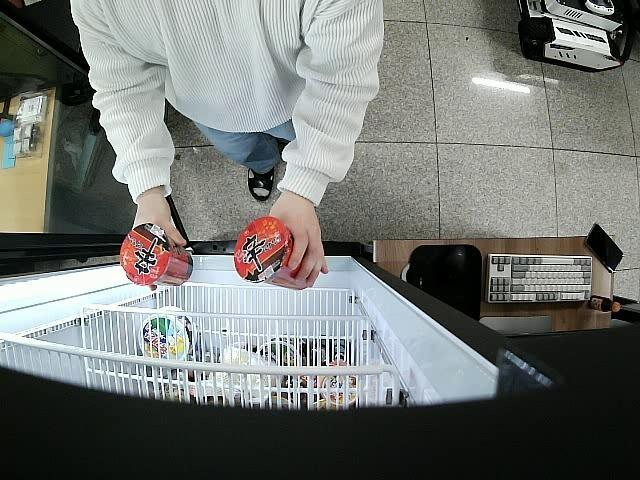02_shinRamen_S: (232, 216, 312, 292), (119, 223, 193, 285)
